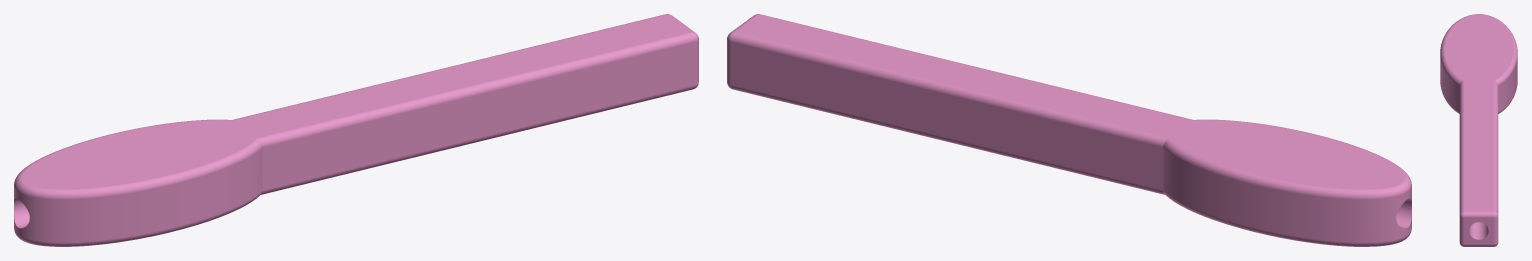
The model's file is Roze ovaal met stokje.glb.
3 views of the same model, side by side, from view 1: azimuth 30°, elevation 25°; view 2: azimuth 150°, elevation 25°; view 3: azimuth 270°, elevation 25° (orthographic). The views are drawn at different scales.
Size of the model in its own units: 0.049 by 0.004 by 0.008.
